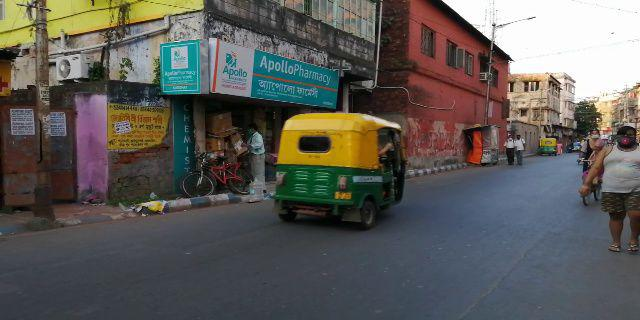Autorickshaw: (271, 110, 406, 229)
Cycle: (178, 149, 252, 195)
